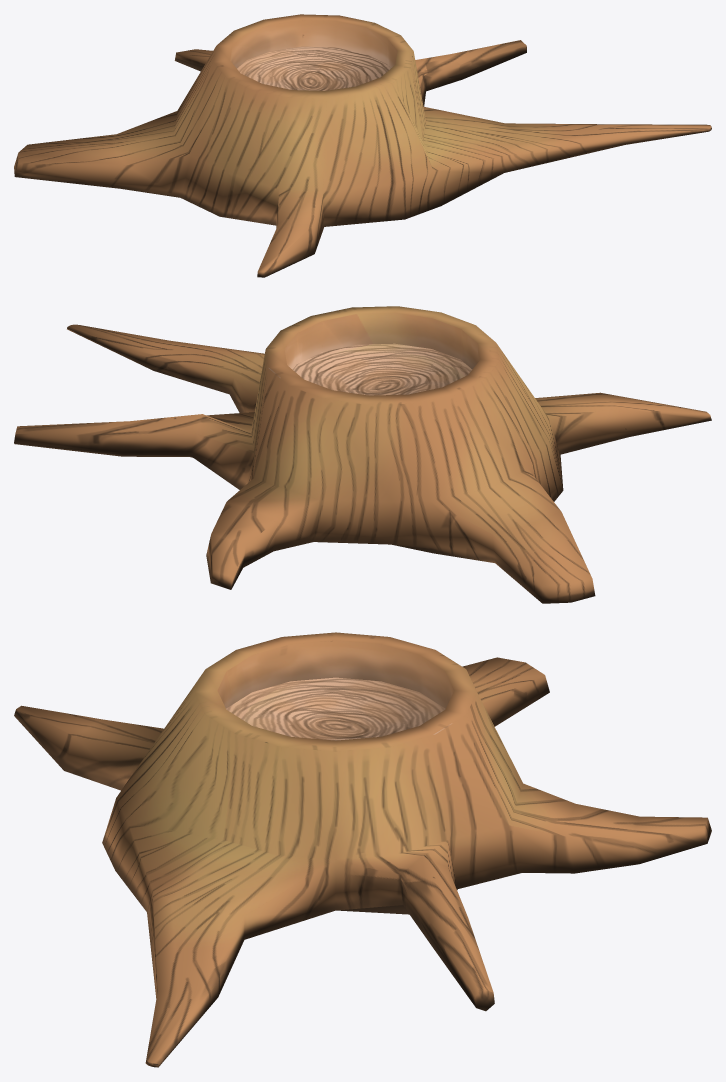
Rendered from stump.fbx.
The picture shows the model from 3 angles, top to bottom: view 1: azimuth 30°, elevation 25°; view 2: azimuth 150°, elevation 25°; view 3: azimuth 270°, elevation 25°; orthographic projection. The views are drawn at different scales.
Visible parts, largest first — view 1: Cylinder; view 2: Cylinder; view 3: Cylinder.
Part boxes in pixels (x1=…): Cylinder: x1=14, y1=14, x2=711, y2=277; Cylinder: x1=14, y1=306, x2=711, y2=603; Cylinder: x1=14, y1=632, x2=711, y2=1067.
Size of the model in its own units: 537 by 97.07 by 404.
1 material, 1 textured.
